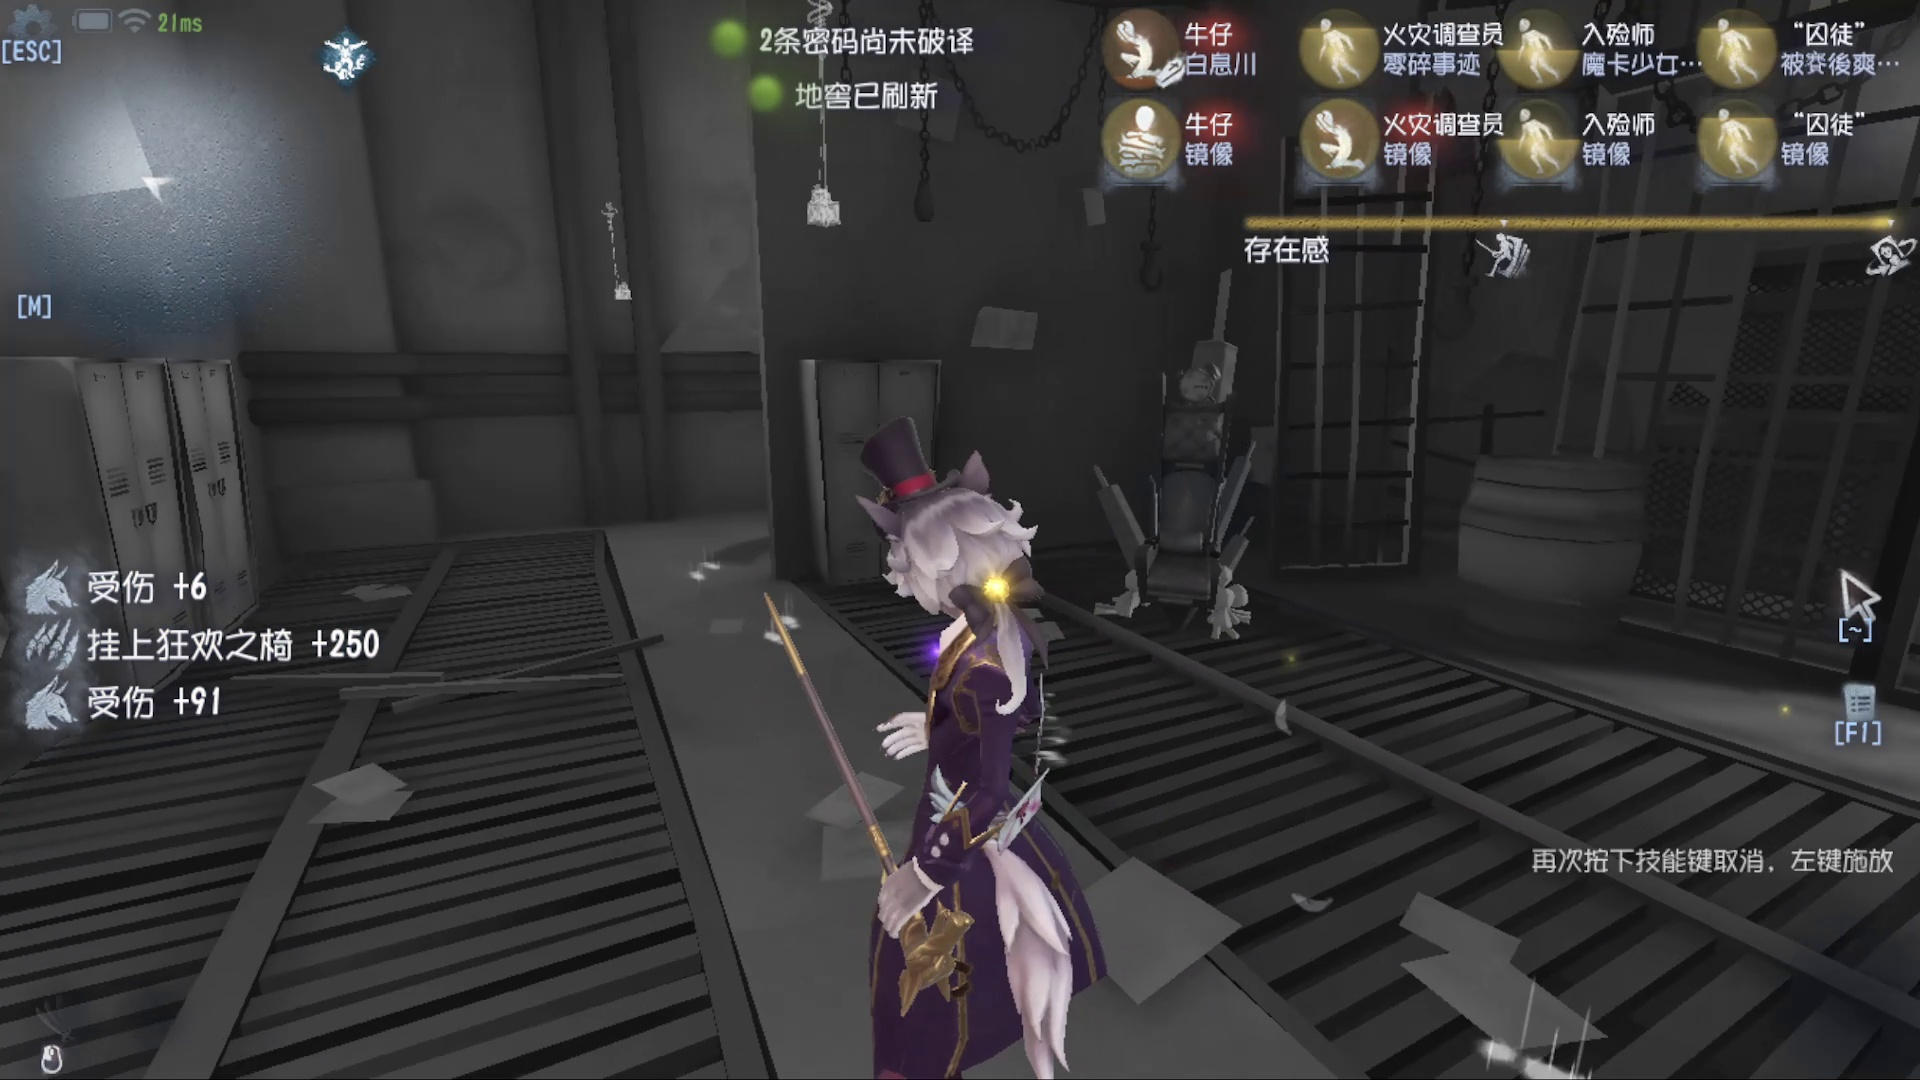狂欢之椅: (1106, 293, 1266, 645)
